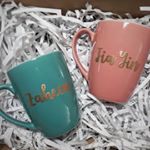cups: (1, 49, 82, 140), (70, 16, 150, 107)
